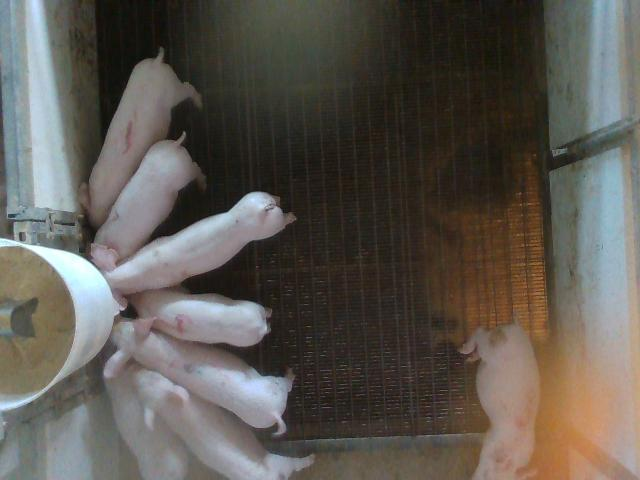pig-1: (80, 49, 201, 228)
pig-3: (459, 315, 540, 478)
pig-4: (128, 286, 271, 346)
